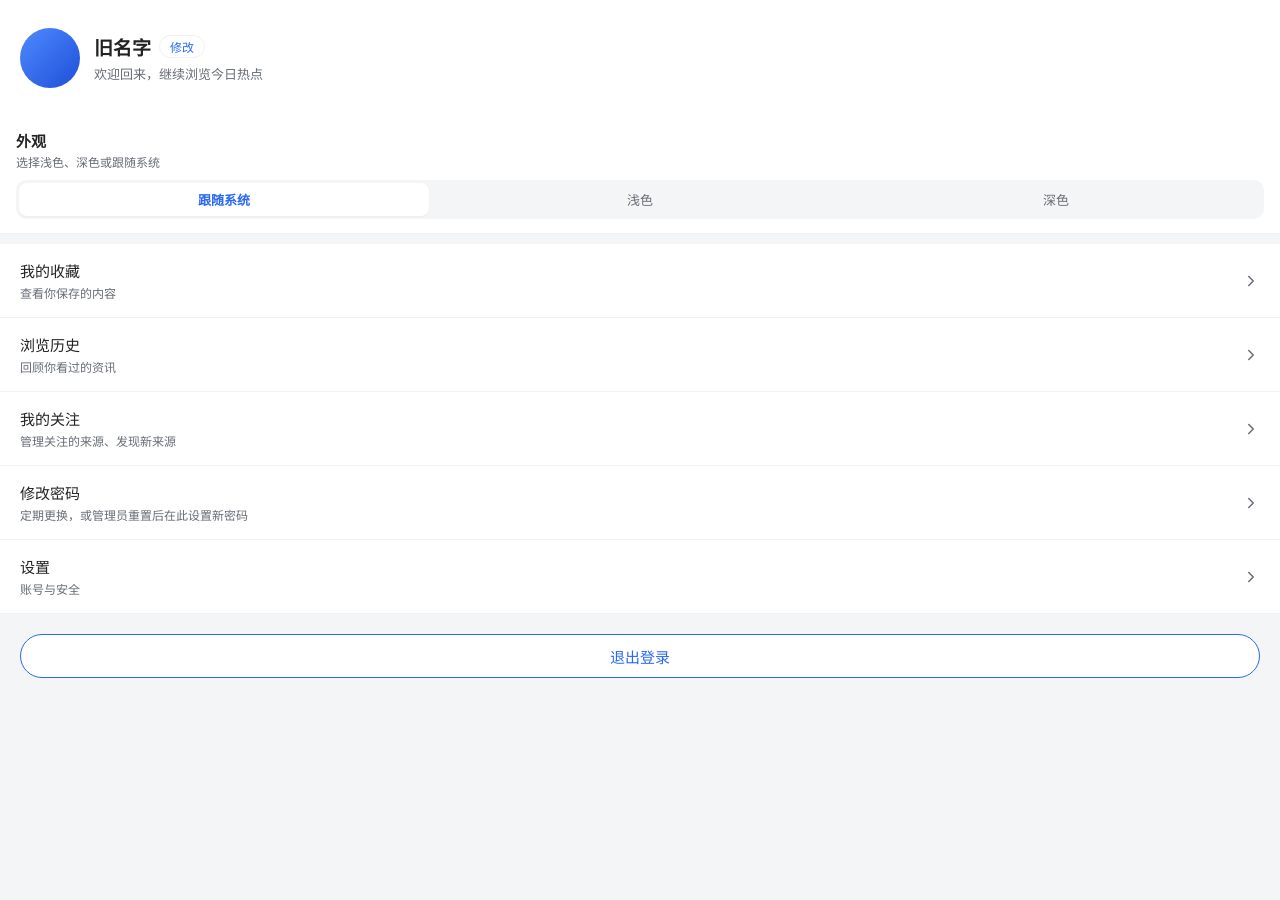
views/Profile 修改昵称 › 保存成功（pass）：trim 后提交、更新 store、提示并收起编辑器
Click the button with aria-label "修改昵称": {"x": 182, "y": 46} x1=159 y1=35 x2=205 y2=58
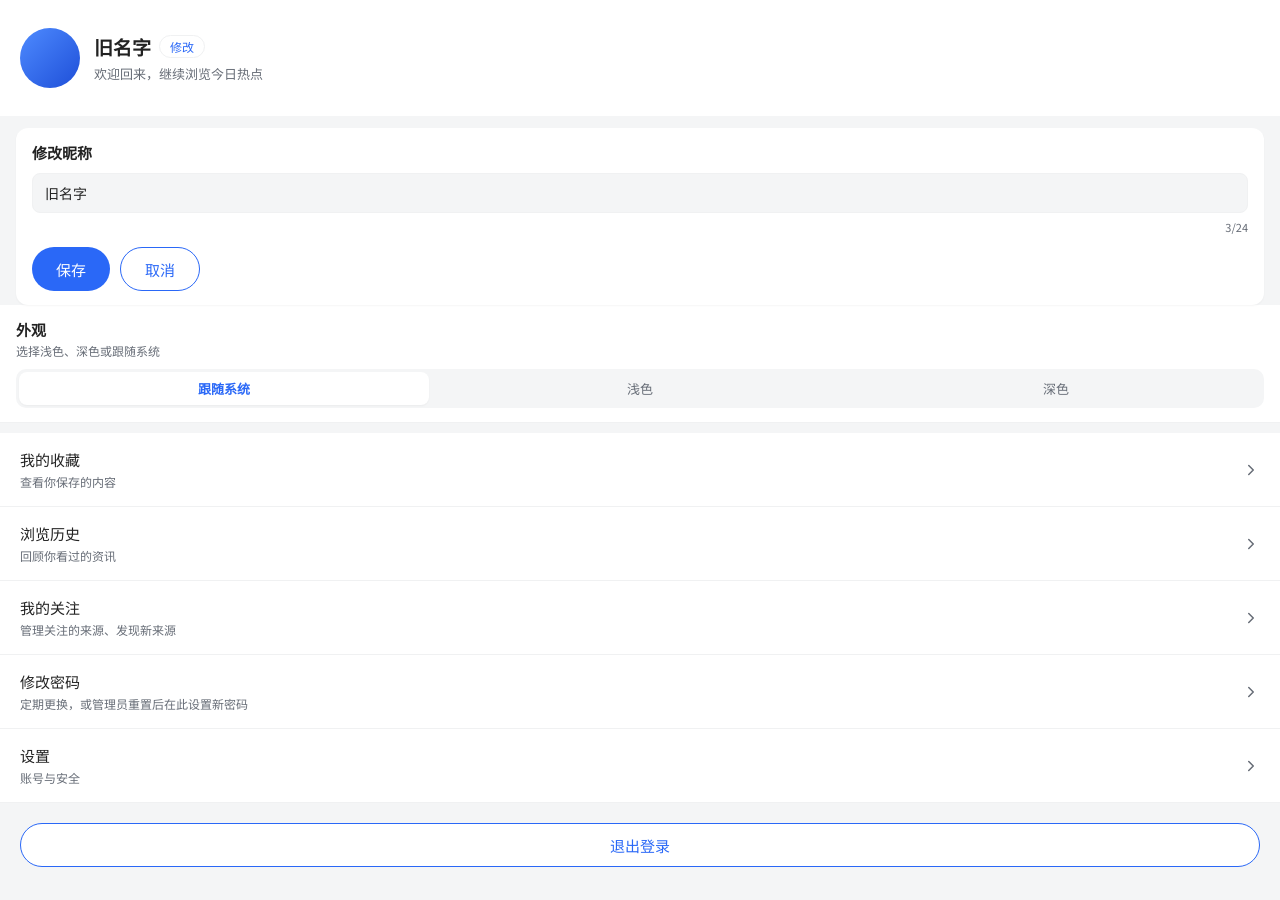
Replace the text in the field named "新昵称" with "  新名字  ": {"x": 640, "y": 193} x1=32 y1=173 x2=1248 y2=213
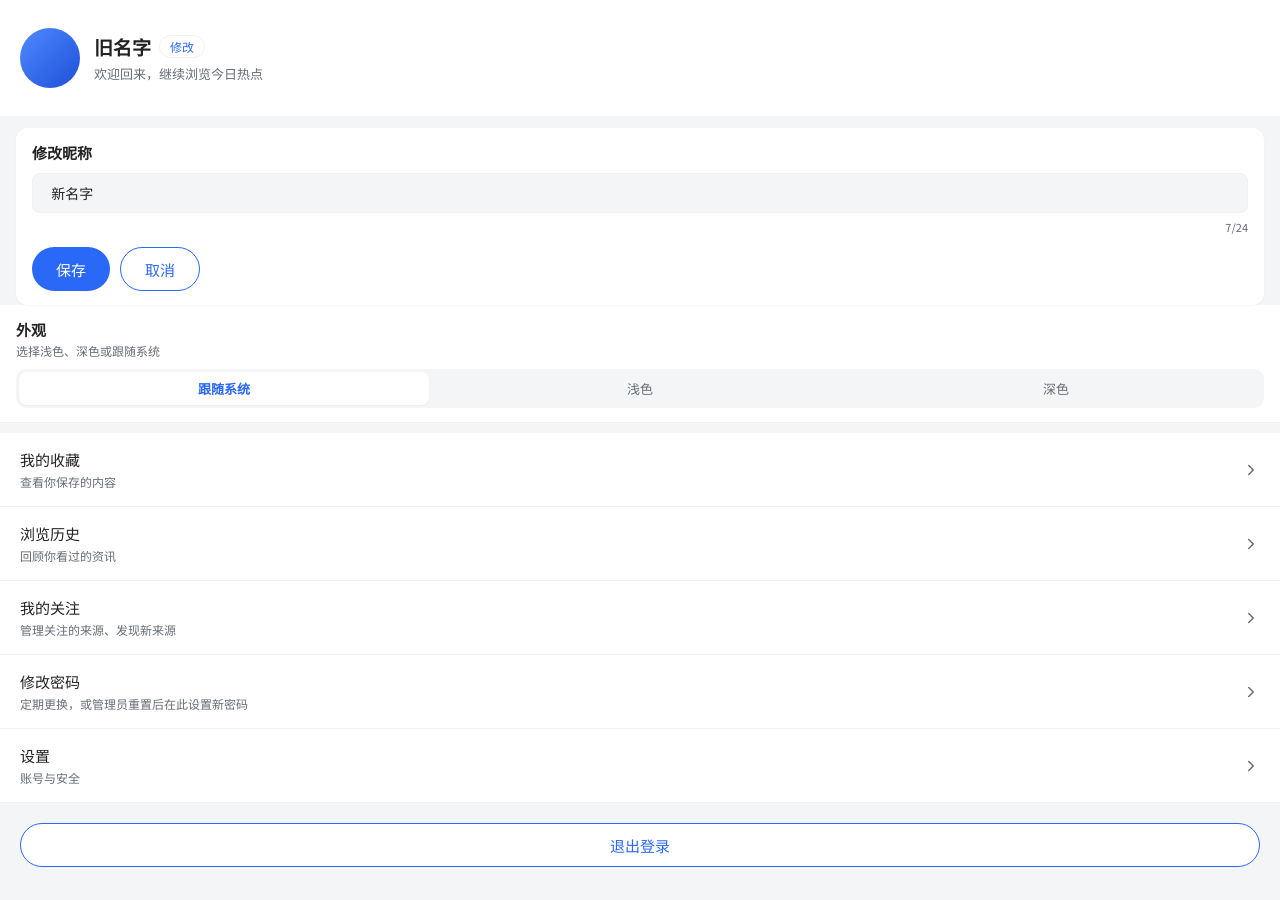
Click the button "保存": {"x": 71, "y": 269} x1=32 y1=247 x2=110 y2=291
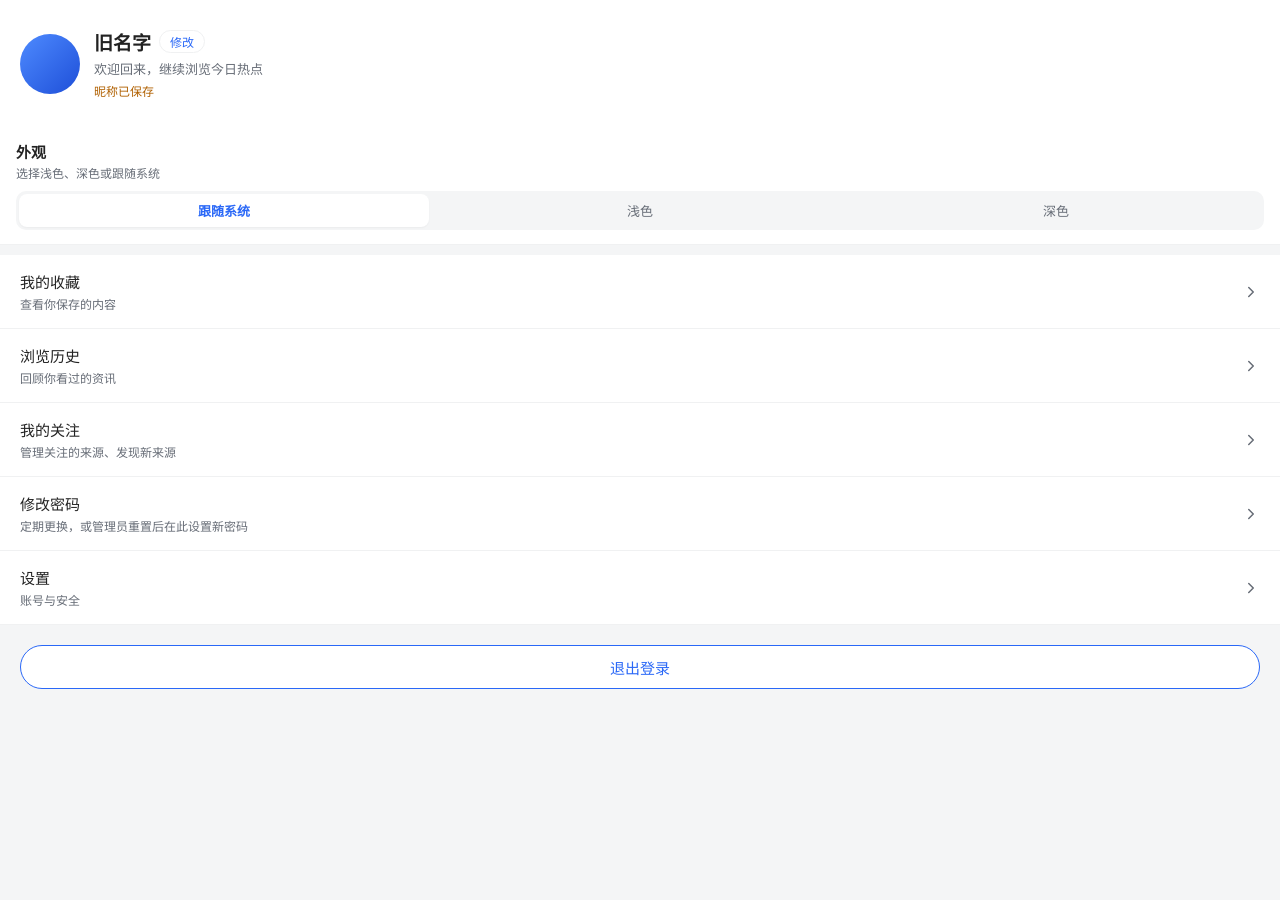
Now the text "昵称已保存" is shown, box x1=94 y1=82 x2=154 y2=99
